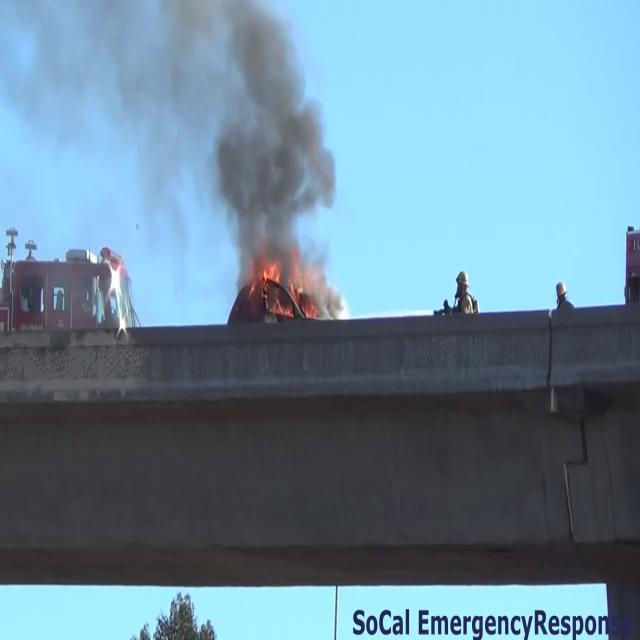Fire: (258, 258, 324, 318)
Smoke: (83, 0, 344, 275)
